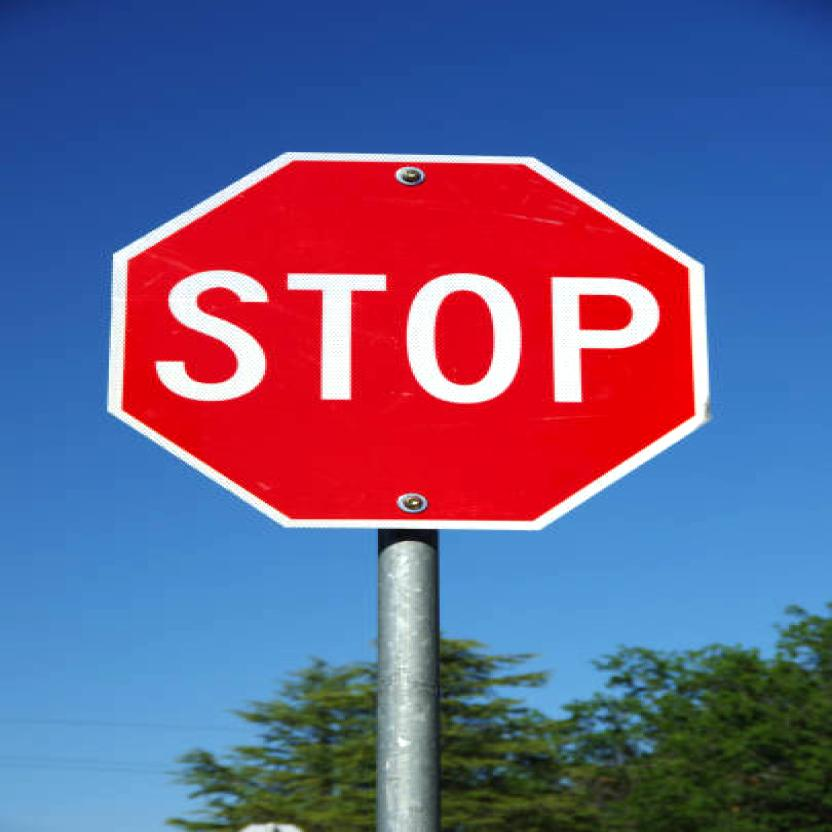Pole: (374, 531, 446, 828)
Sign: (110, 152, 710, 528)
